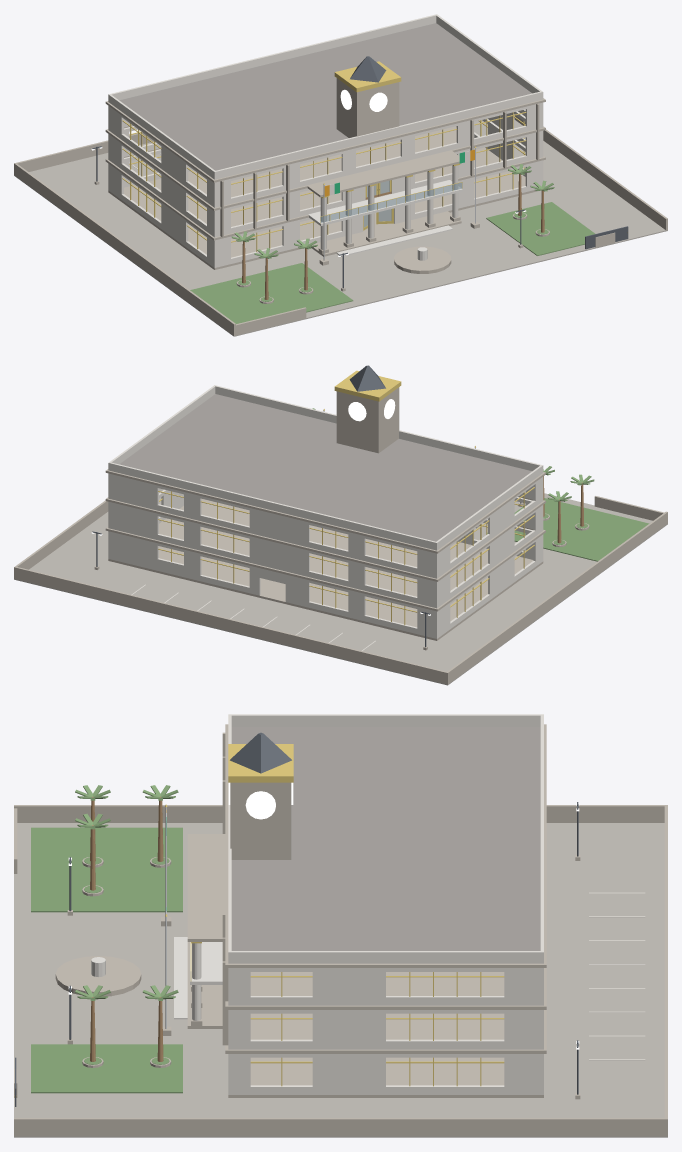
The model's file is SM_Mairie_Plateau.fbx.
The picture shows the model from 3 angles, top to bottom: view 1: azimuth 30°, elevation 25°; view 2: azimuth 150°, elevation 25°; view 3: azimuth 270°, elevation 25°; orthographic projection. The views are drawn at different scales.
Parts seen in each view (by area): view 1: Mairie_Ext_Site, Mairie_Ext_Roof, Mairie_Ext_Walls, Mairie_Ext_Details; view 2: Mairie_Ext_Site, Mairie_Ext_Roof, Mairie_Ext_Walls, Mairie_Ext_Details; view 3: Mairie_Ext_Site, Mairie_Ext_Roof, Mairie_Ext_Walls, Mairie_Ext_Details.
Part boxes in pixels (x1,y1,x2,y2): Mairie_Ext_Site: [14, 115, 667, 336]; Mairie_Ext_Roof: [108, 14, 543, 179]; Mairie_Ext_Walls: [105, 98, 545, 267]; Mairie_Ext_Details: [91, 103, 554, 303]; Mairie_Ext_Site: [14, 493, 667, 685]; Mairie_Ext_Roof: [108, 365, 543, 550]; Mairie_Ext_Walls: [105, 469, 545, 638]; Mairie_Ext_Details: [91, 408, 594, 650]; Mairie_Ext_Site: [14, 805, 667, 1137]; Mairie_Ext_Roof: [228, 714, 543, 963]; Mairie_Ext_Walls: [225, 724, 546, 1094]; Mairie_Ext_Details: [55, 732, 580, 1099].
Bounding box in the file's own units: 6600 × 2415 × 5800.
